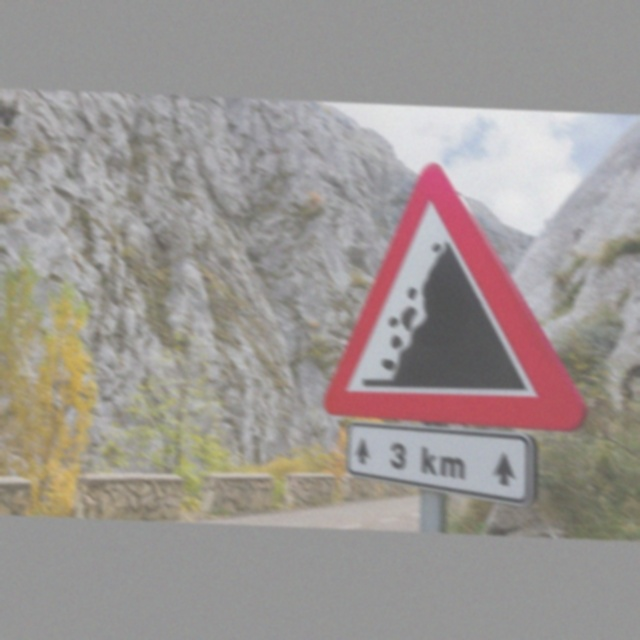Falling_Rocks: (316, 160, 590, 431)
